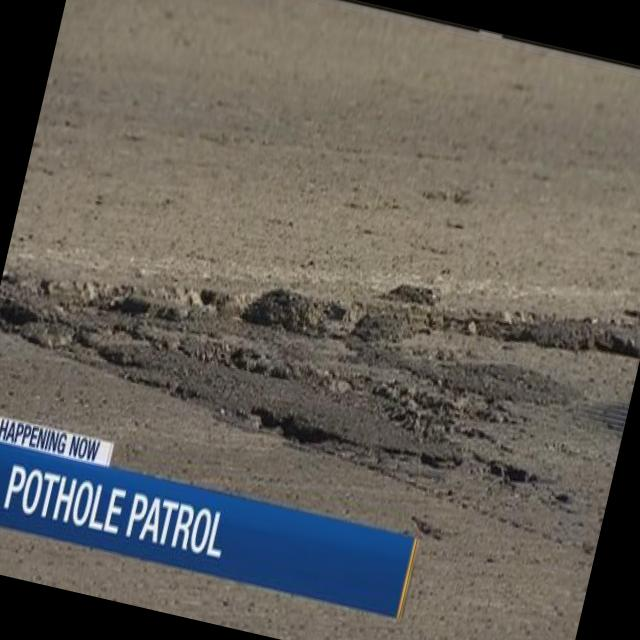Potholes: (0, 156, 640, 522)
